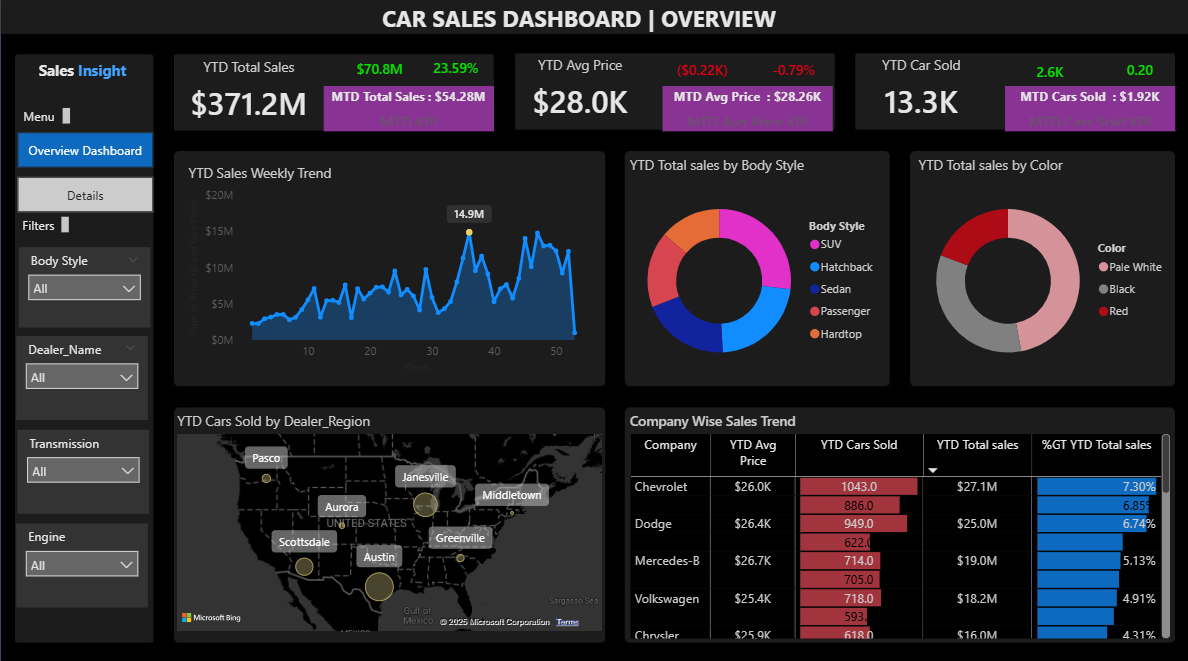

Layout of this report page (visuals, bound fields, positions):
{"tool":"powerbi","page":{"name":"Overview Dashboard","canvas":[1280,720],"ordinal":0},"visuals":[{"type":"card","title":"YTD Total Sales","fields":{"Values":["car_data.YTD Total sales"]},"box":[186.9,65.9,161.4,79.3],"z":0},{"type":"card","fields":{"Values":["car_data.Sales Difference"]},"box":[366.8,62.9,82.7,36],"z":1000},{"type":"card","fields":{"Values":["car_data.YoY Sales Growth"]},"box":[449.8,62.3,82.6,35.2],"z":2000},{"type":"card","fields":{"Values":["car_data.MTD KPI"]},"box":[348.3,96.8,182.9,48.4],"z":3000},{"type":"card","title":"YTD Avg Price","fields":{"Values":["car_data.YTD Avg Price"]},"box":[543.3,63.2,161.4,79.3],"z":4000},{"type":"card","fields":{"Values":["car_data.Avg Price Diff"]},"box":[714.1,63.2,83.4,36.3],"z":5000},{"type":"card","fields":{"Values":["car_data.YoY Avg Price Growth"]},"box":[812.3,63.2,83.4,36.3],"z":6000},{"type":"card","fields":{"Values":["car_data.MTD Avg Price KPI"]},"box":[712.8,96.8,182.9,48.4],"z":7000},{"type":"card","title":"YTD Car Sold","fields":{"Values":["car_data.YTD Cars Sold"]},"box":[910.4,63.2,161.4,79.3],"z":8000},{"type":"card","fields":{"Values":["car_data.Cars Sold Diff"]},"box":[1088,65.9,83.4,36.3],"z":9000},{"type":"card","fields":{"Values":["car_data.YoY Car Sold Growth"]},"box":[1184.8,63.2,83.4,36.3],"z":10000},{"type":"card","fields":{"Values":["car_data.MTD Cars Sold KPI"]},"box":[1081.2,96.8,182.9,48.4],"z":11000},{"type":"areaChart","title":"YTD Sales Weekly Trend","fields":{"Category":["Calendar Table.Week"],"Y":["Sum(car_data.Price ($))","car_data.Max Point"]},"box":[197.7,180.2,442.4,230],"z":12000},{"type":"donutChart","fields":{"Category":["car_data.Body Style"],"Y":["car_data.YTD Total sales"]},"box":[672.4,170.8,281.1,251.5],"z":13000},{"type":"donutChart","fields":{"Y":["car_data.YTD Total sales"],"Category":["car_data.Color"]},"box":[983.1,170.8,281.1,251.5],"z":14000},{"type":"map","fields":{"Category":["car_data.Dealer_Region"],"Size":["car_data.YTD Cars Sold"]},"box":[185.6,446.5,466.7,242.1],"z":15000},{"type":"tableEx","title":"Company Wise Sales Trend","fields":{"Values":["car_data.Company","car_data.YTD Avg Price","car_data.YTD Cars Sold","car_data.YTD Total sales1","car_data.YTD Total sales"]},"box":[672.4,446.5,591.7,250.1],"z":16000},{"type":"textbox","box":[406.1,2.7,597.1,48.4],"z":17000},{"type":"slicer","fields":{"Values":["car_data.Body Style"]},"box":[20.2,270.3,141.2,86.1],"z":18000},{"type":"slicer","fields":{"Values":["car_data.Dealer_Name"]},"box":[17.5,365.8,141.2,90.1],"z":19000},{"type":"slicer","fields":{"Values":["car_data.Transmission"]},"box":[18.8,466.7,141.2,90.1],"z":20000},{"type":"slicer","fields":{"Values":["car_data.Engine"]},"box":[17.5,567.5,141.2,90.1],"z":21000},{"type":"textbox","box":[18.8,232.7,60.5,26.9],"z":22000},{"type":"textbox","box":[13.4,63.2,150.6,40.3],"z":23000},{"type":"textbox","box":[20.2,115.7,60.5,26.9],"z":24000},{"type":"pageNavigator","box":[18.8,146.6,146.6,86.1],"z":25000}]}

Visuals, with their boxes in screenshot pixels (x1, y1, x2, y2), scaled from the page's 1280x720 canvas onto the 1188x661 screenshot:
"YTD Total Sales" card: [173,60,323,133]
card - car_data.Sales Difference: [340,58,417,91]
card - car_data.YoY Sales Growth: [417,57,494,90]
card - car_data.MTD KPI: [323,89,493,133]
"YTD Avg Price" card: [504,58,654,131]
card - car_data.Avg Price Diff: [663,58,740,91]
card - car_data.YoY Avg Price Growth: [754,58,831,91]
card - car_data.MTD Avg Price KPI: [662,89,831,133]
"YTD Car Sold" card: [845,58,995,131]
card - car_data.Cars Sold Diff: [1010,60,1087,94]
card - car_data.YoY Car Sold Growth: [1100,58,1177,91]
card - car_data.MTD Cars Sold KPI: [1003,89,1173,133]
"YTD Sales Weekly Trend" areaChart: [183,165,594,377]
donutChart - car_data.Body Style x car_data.YTD Total sales: [624,157,885,388]
donutChart - car_data.YTD Total sales x car_data.Color: [912,157,1173,388]
map - car_data.Dealer_Region x car_data.YTD Cars Sold: [172,410,605,632]
"Company Wise Sales Trend" tableEx: [624,410,1173,640]
textbox: [377,2,931,47]
slicer - car_data.Body Style: [19,248,150,327]
slicer - car_data.Dealer_Name: [16,336,147,419]
slicer - car_data.Transmission: [17,428,148,511]
slicer - car_data.Engine: [16,521,147,604]
textbox: [17,214,74,238]
textbox: [12,58,152,95]
textbox: [19,106,75,131]
pageNavigator: [17,135,154,214]
